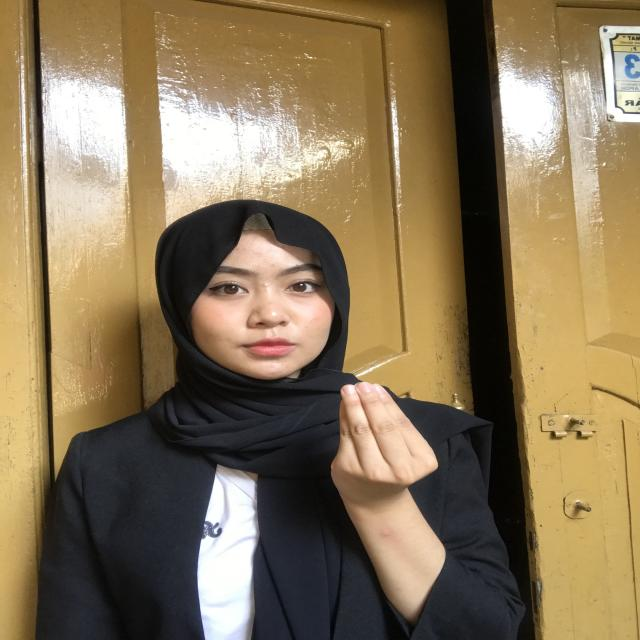kapan: (292, 360, 474, 530)
